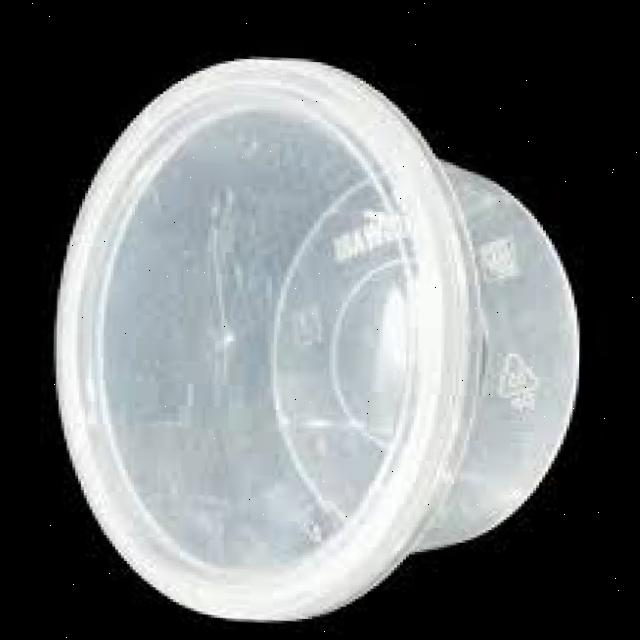disposable: (48, 15, 601, 636)
